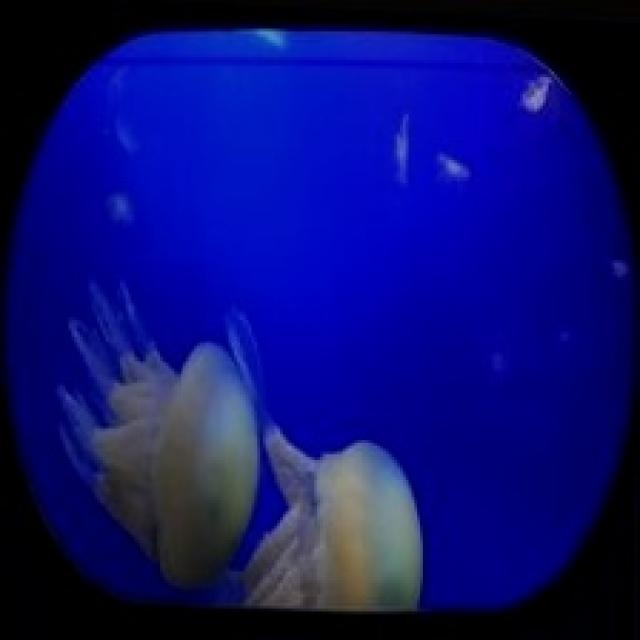Box-jellyfish: (51, 274, 263, 592), (236, 378, 453, 626)
